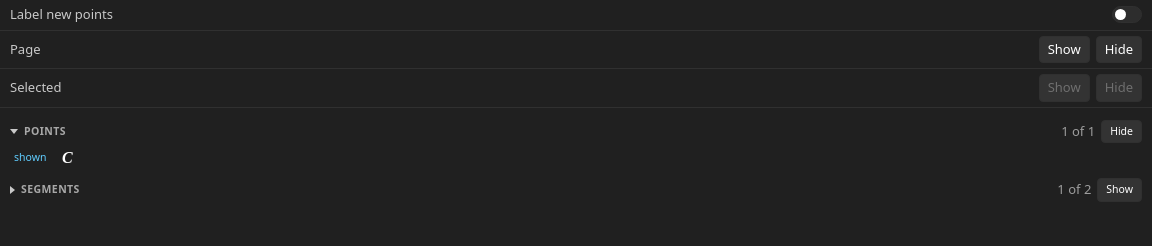
it: the labels panel › lists what has a name and leaves out what has none
This screenshot has width=1152, height=246.
Click the button "Segments 1 of 2" at [50, 189], box [6, 178, 1095, 202]
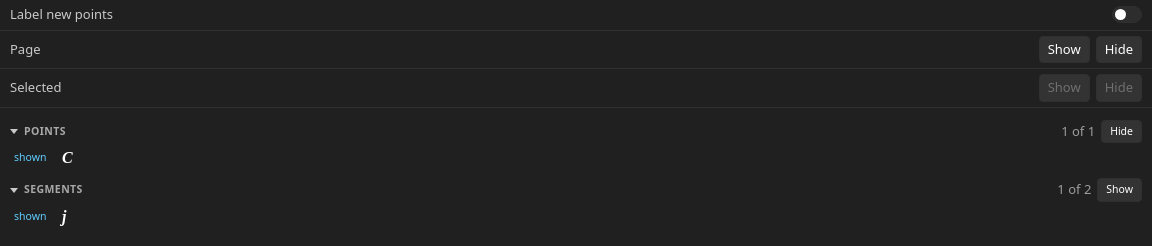
Expected: the number of elements with class "labels__row" is 2, [0, 146, 1151, 170]; [0, 205, 1151, 229]
Expected: the number of buttons "j" is 1, [62, 208, 1142, 226]
